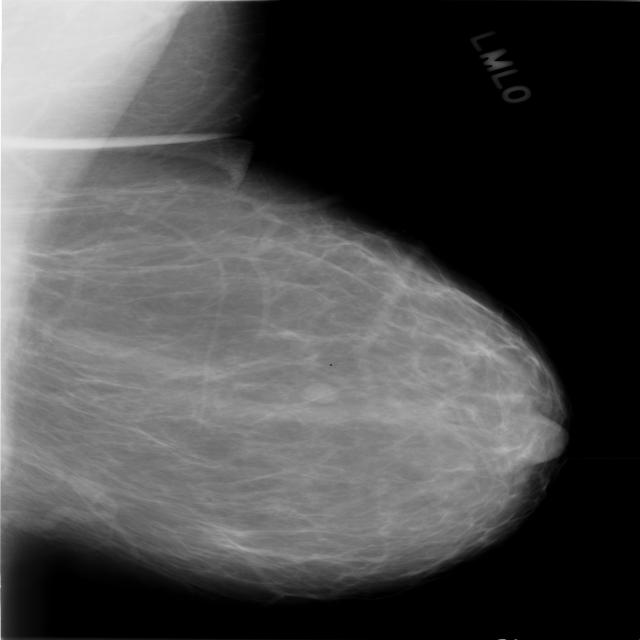normal: (0, 100, 573, 602)
